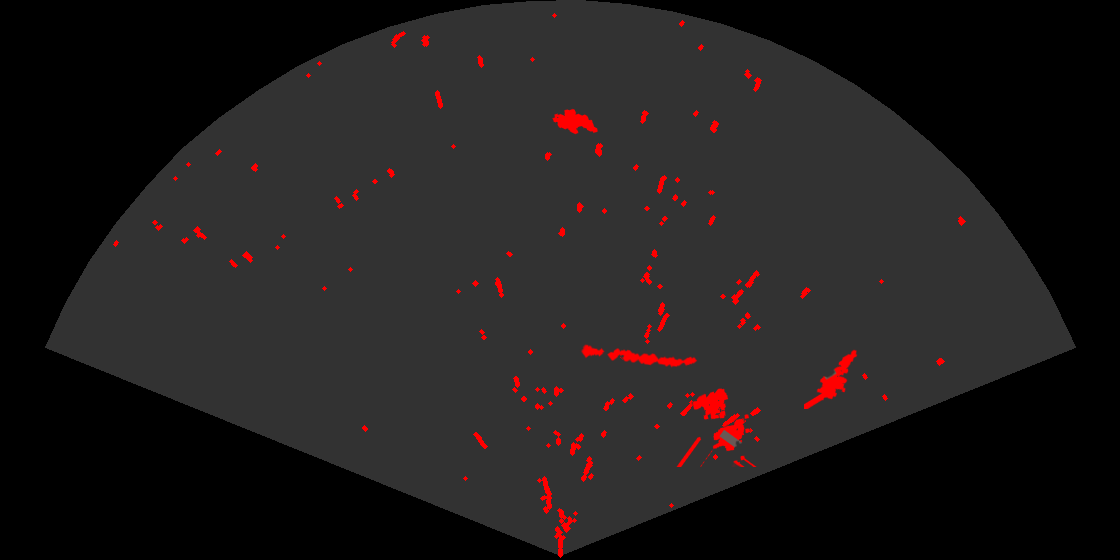AUV: (551, 107, 599, 136)
cage: (675, 387, 758, 467)
chain: (579, 343, 699, 369)
frogman: (804, 348, 859, 409)
